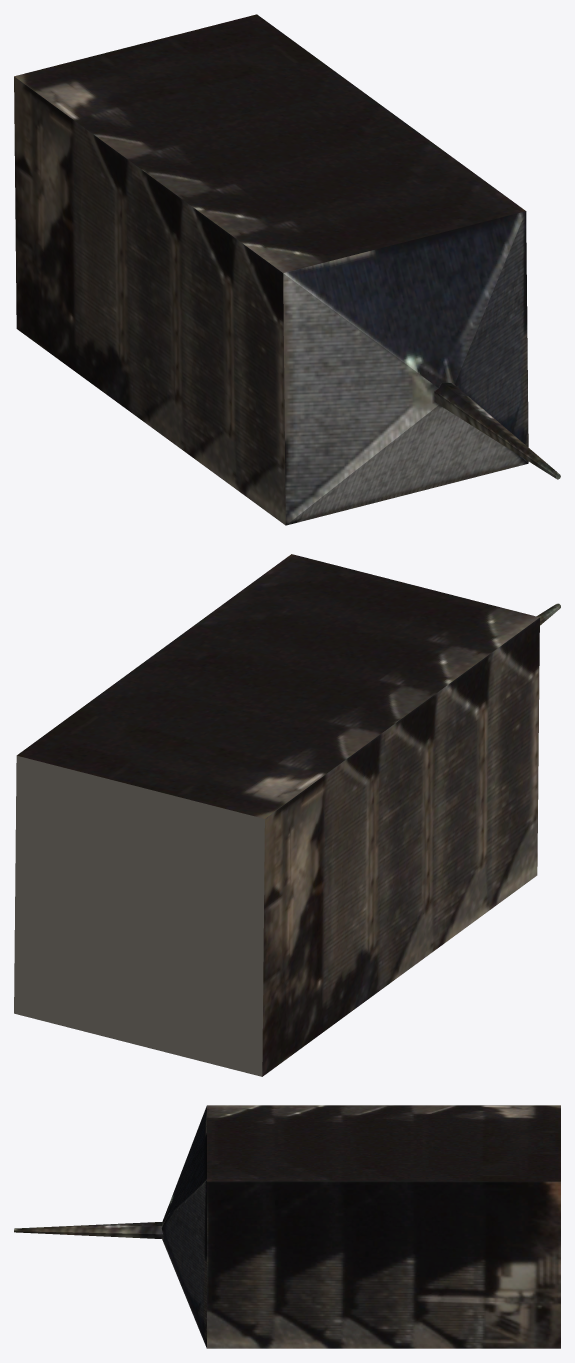
The model's file is Gojunotoh.fbx.
3 views of the same model, one above another, from view 1: azimuth 30°, elevation 25°; view 2: azimuth 150°, elevation 25°; view 3: azimuth 270°, elevation 25° (orthographic). The views are drawn at different scales.
Parts seen in each view (by area): view 1: Gojunotoh; view 2: Gojunotoh; view 3: Gojunotoh.
Part boxes in pixels (left/top/right/bottom): Gojunotoh: left=14, top=14, right=560, bottom=525; Gojunotoh: left=14, top=554, right=560, bottom=1076; Gojunotoh: left=14, top=1105, right=560, bottom=1348.
Bounding box in the file's own units: 18.76 × 55.02 × 18.69.
Materials: 2 (2 with a texture image).
